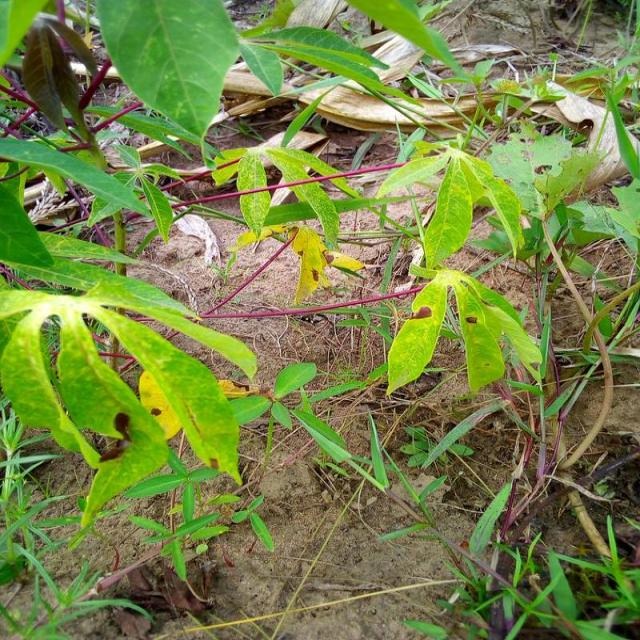cassava leaf: (94, 0, 240, 145), (385, 266, 542, 396)
